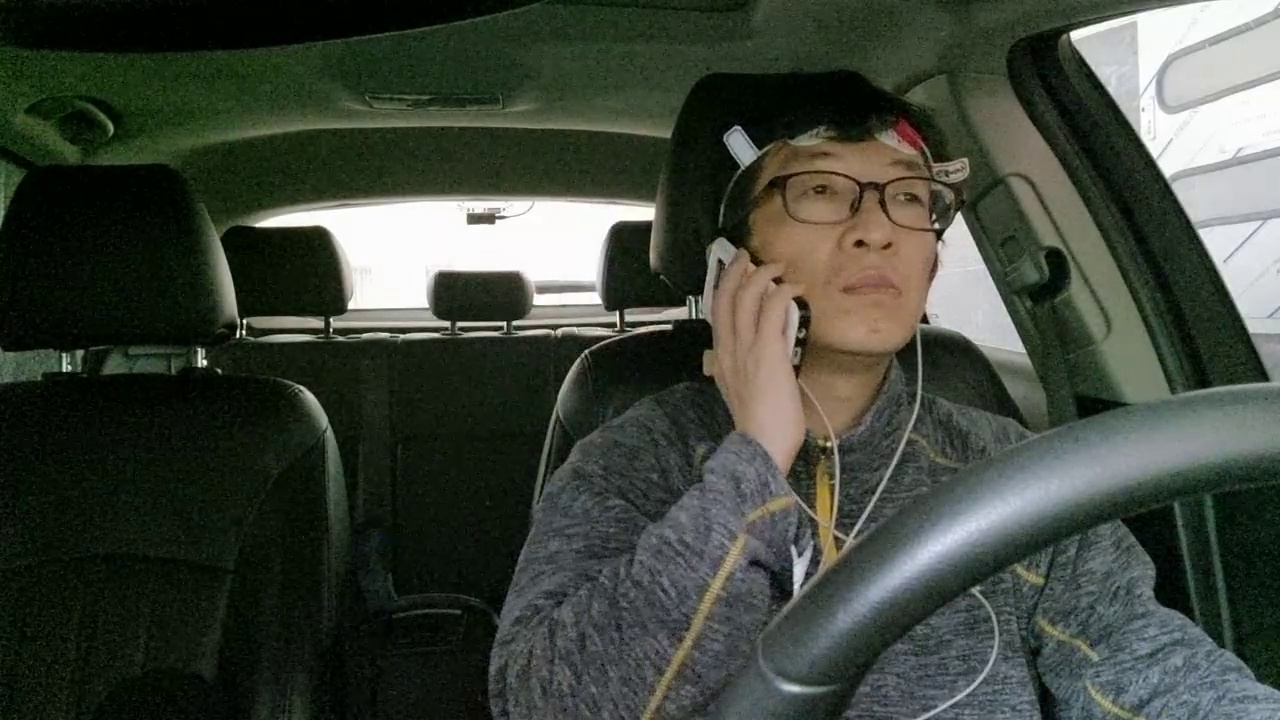phone: (667, 211, 845, 413)
